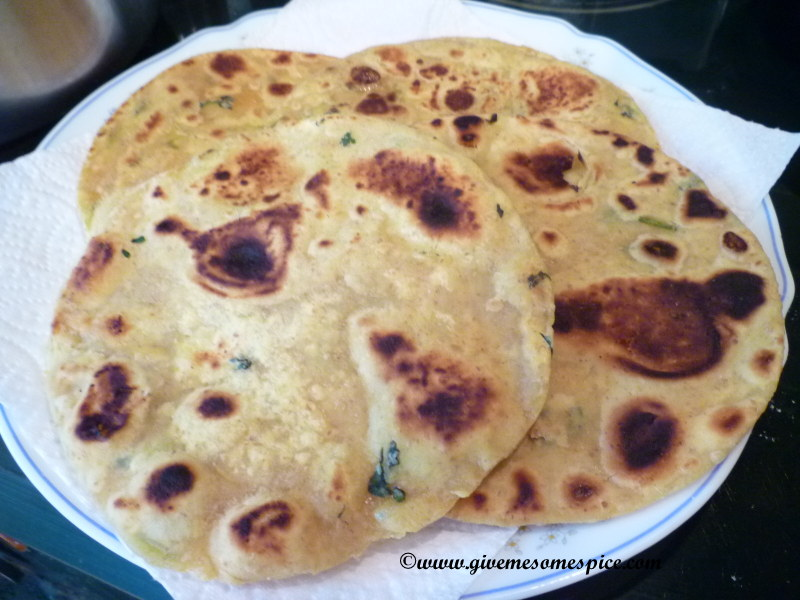aloo_paratha: (41, 40, 782, 575)
